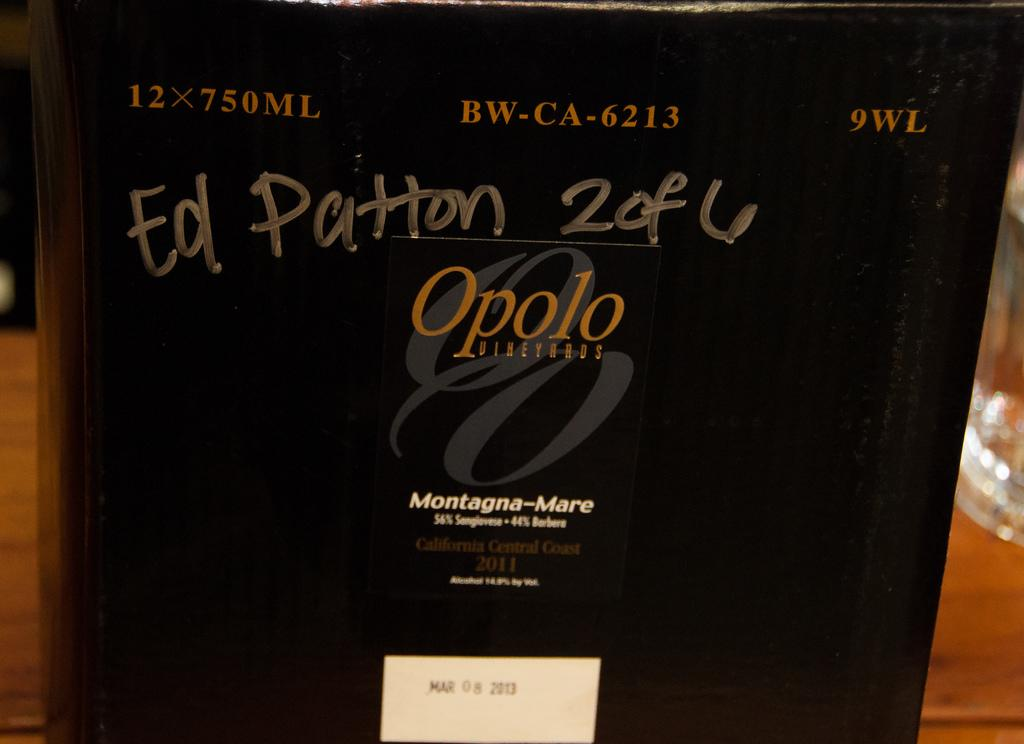Book: (39, 0, 1023, 743)
